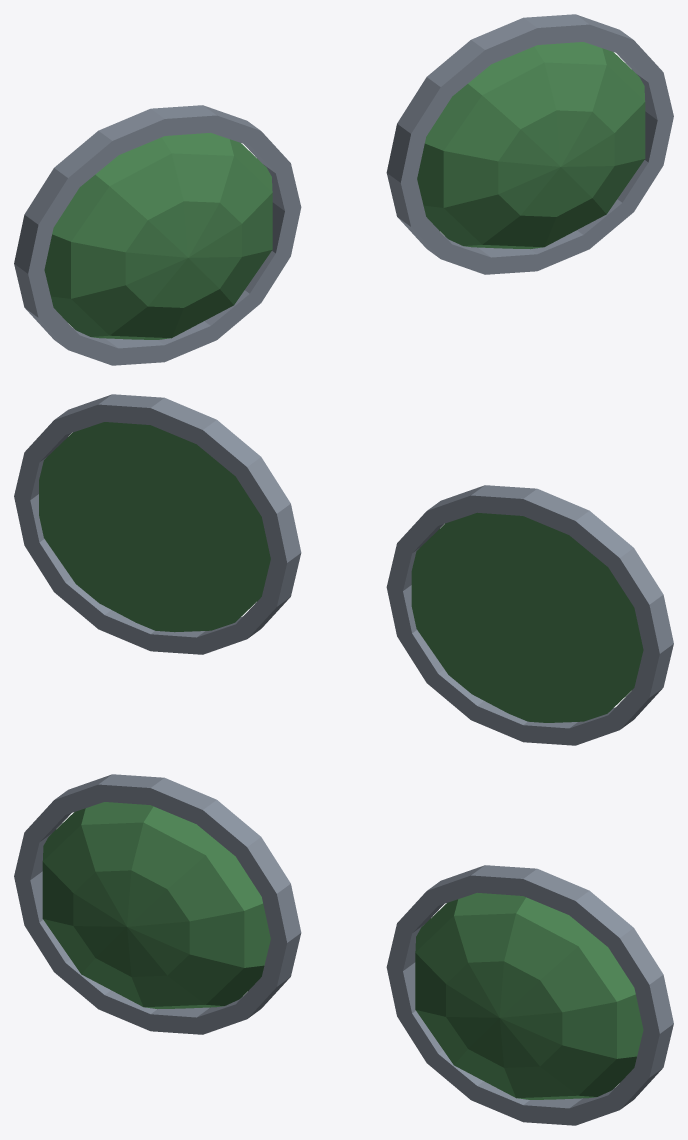
File: armor_lord_legs_uncommon_orc.glb
3 renders of one model, top to bottom at view 1: azimuth 30°, elevation 25°; view 2: azimuth 150°, elevation 25°; view 3: azimuth 330°, elevation 25°, orthographic.
Visible parts, largest first — view 1: armor_lord_legs_uncommon_orc__calf_l, armor_lord_legs_uncommon_orc__calf_r; view 2: armor_lord_legs_uncommon_orc__calf_r, armor_lord_legs_uncommon_orc__calf_l; view 3: armor_lord_legs_uncommon_orc__calf_r, armor_lord_legs_uncommon_orc__calf_l.
Part boxes in pixels (x1=…): armor_lord_legs_uncommon_orc__calf_l: x1=386, y1=14, x2=673, y2=274; armor_lord_legs_uncommon_orc__calf_r: x1=14, y1=105, x2=301, y2=365; armor_lord_legs_uncommon_orc__calf_r: x1=386, y1=485, x2=673, y2=745; armor_lord_legs_uncommon_orc__calf_l: x1=14, y1=394, x2=301, y2=654; armor_lord_legs_uncommon_orc__calf_r: x1=14, y1=774, x2=301, y2=1034; armor_lord_legs_uncommon_orc__calf_l: x1=386, y1=865, x2=673, y2=1125.
Bounding box in the file's own units: 31.67 × 11.4 × 3.2.
